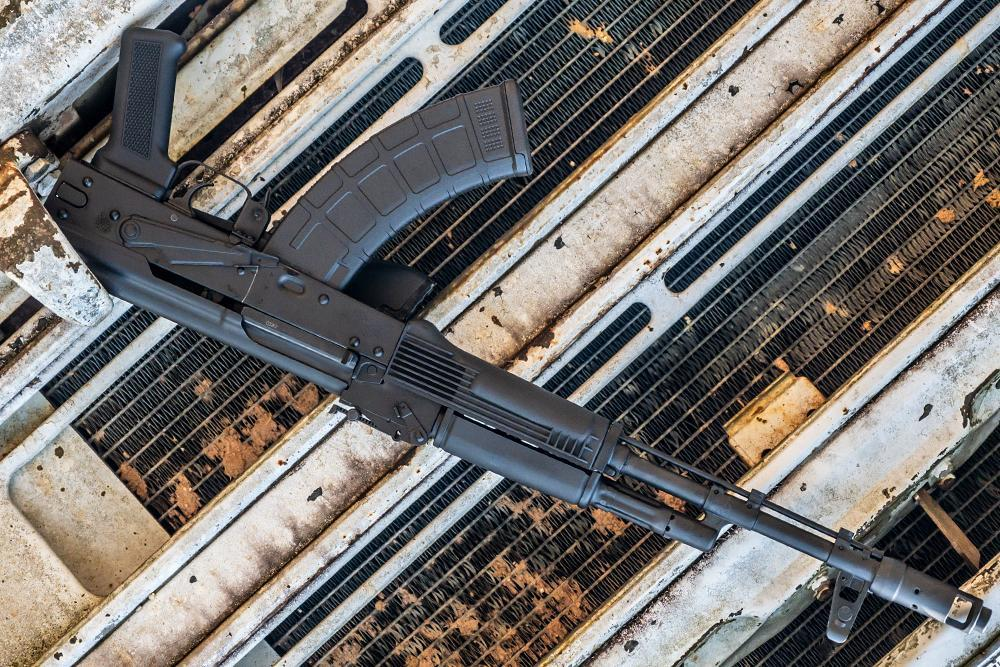larga: (41, 26, 994, 646)
